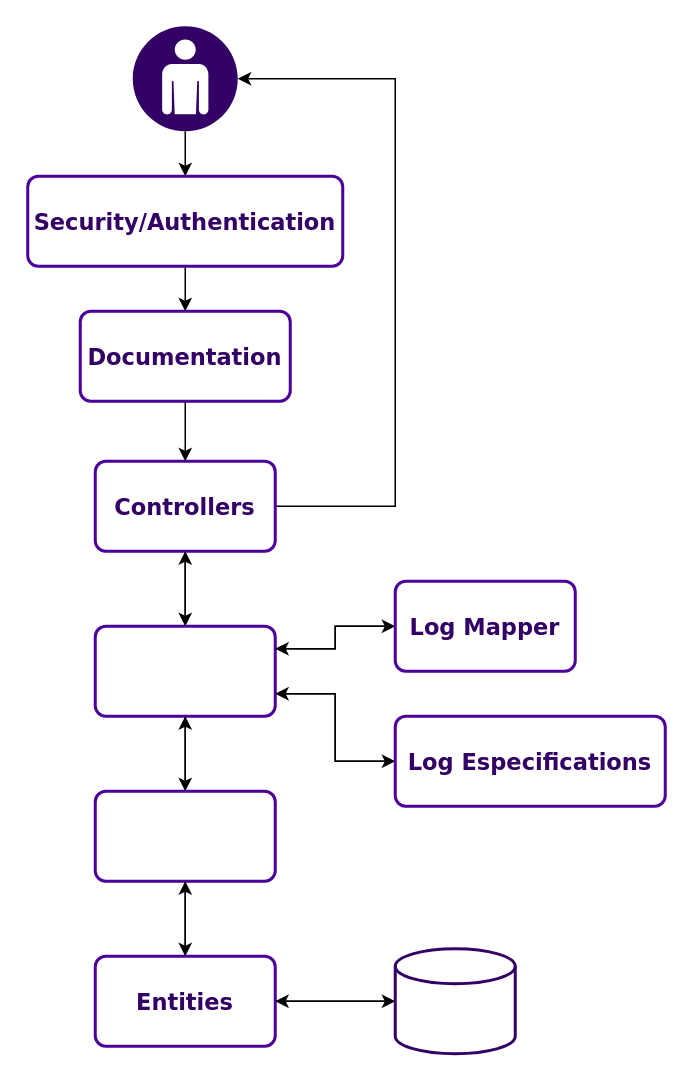
The diagram is 692 pixels wide and 1082 high, and some of its shapes have lost their labels. Each missing label, with the box of its shape:
Postgres: (393, 946, 516, 1054)
Repositories: (93, 789, 276, 882)
Services: (93, 624, 276, 717)
